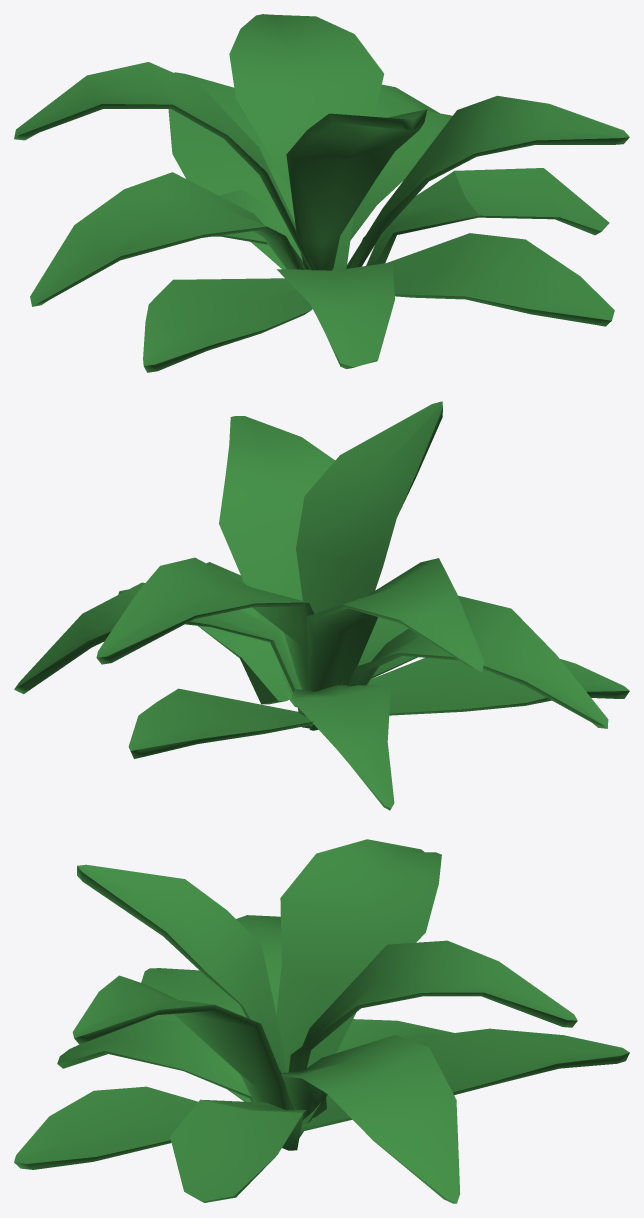
Rendered from Bush 02.FBX.
3 renders of one model, top to bottom at view 1: azimuth 30°, elevation 25°; view 2: azimuth 150°, elevation 25°; view 3: azimuth 270°, elevation 25°, orthographic. The views are drawn at different scales.
Parts seen in each view (by area): view 1: Bush 02; view 2: Bush 02; view 3: Bush 02.
Part boxes in pixels (<box>): Bush 02: <box>14,14,629,372</box>; Bush 02: <box>14,401,629,810</box>; Bush 02: <box>14,839,629,1203</box>.
Size of the model in its own units: 433 by 208 by 436.
